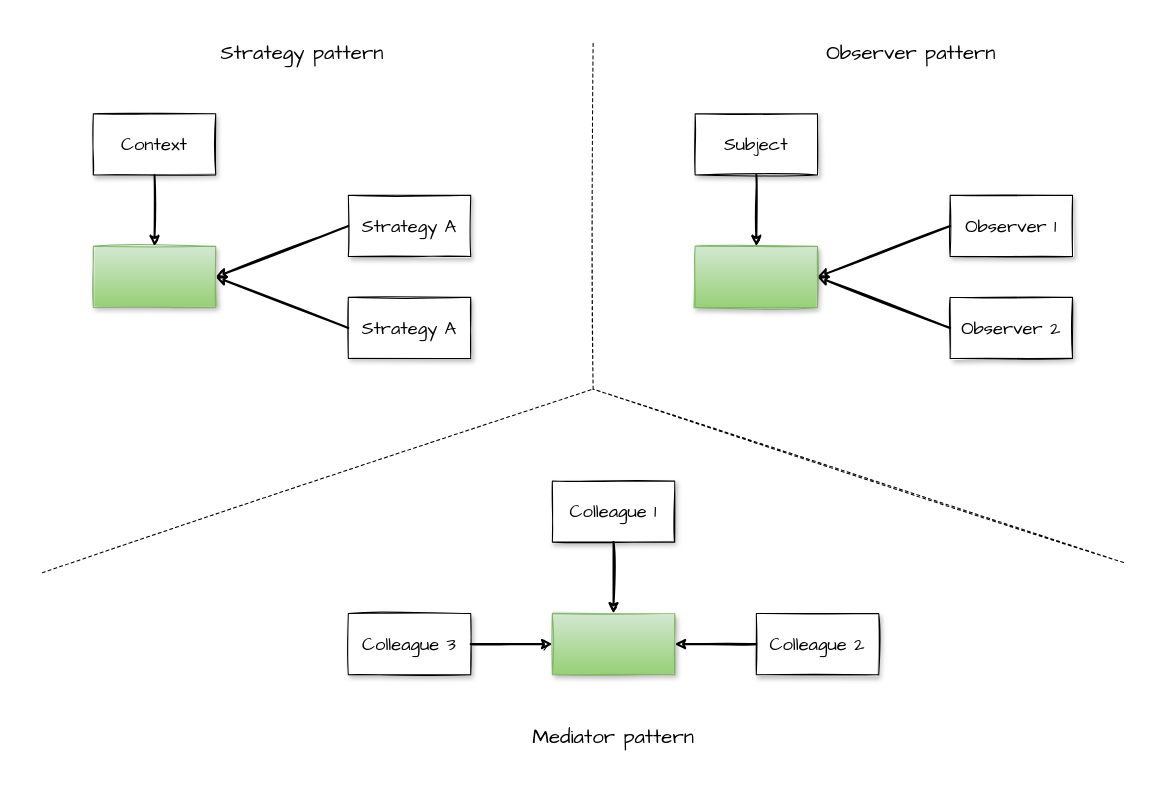
This 1167x801 diagram has some shape labels left out. The centre of each missing label's shape, as x and y in pixels:
Mediator: (x=614, y=645)
Observer: (x=757, y=278)
Strategy: (x=155, y=278)
